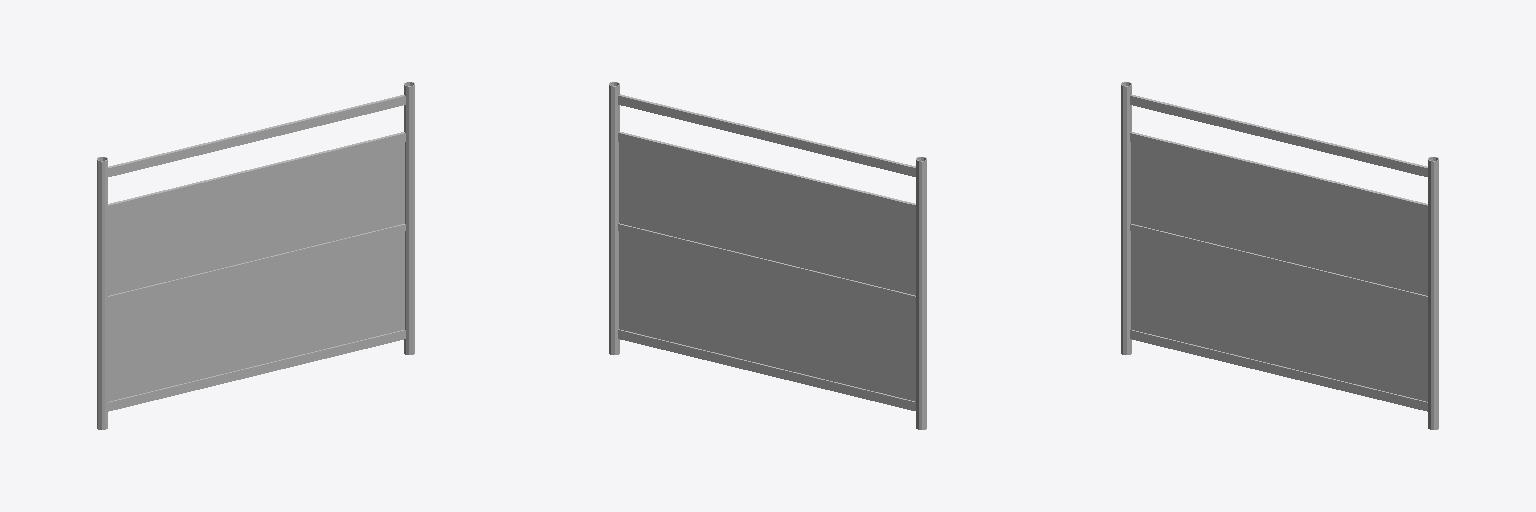
File: Metal Fence.obj
3 renders of one model, left to right at view 1: azimuth 30°, elevation 25°; view 2: azimuth 150°, elevation 25°; view 3: azimuth 330°, elevation 25°, orthographic.
Visible parts, largest first — view 1: obj2, obj1; view 2: obj2, obj1; view 3: obj2, obj1.
Part boxes in pixels (left/top/right/bottom): obj2: left=108, top=143, right=404, bottom=401; obj1: left=97, top=82, right=414, bottom=429; obj2: left=619, top=142, right=915, bottom=401; obj1: left=609, top=82, right=926, bottom=429; obj2: left=1131, top=143, right=1427, bottom=401; obj1: left=1121, top=82, right=1438, bottom=429.
Size of the model in its own units: 3.55 by 2.88 by 0.1147.